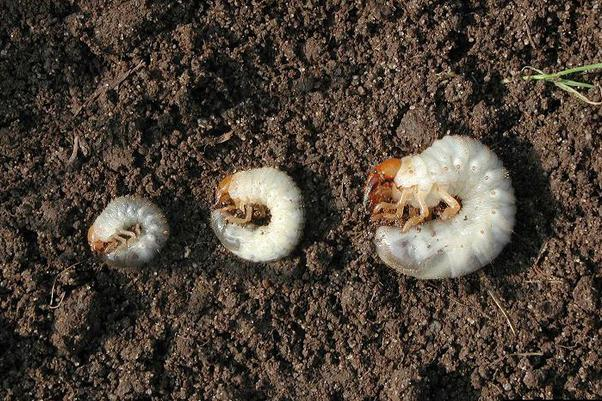grub: (370, 139, 531, 293)
